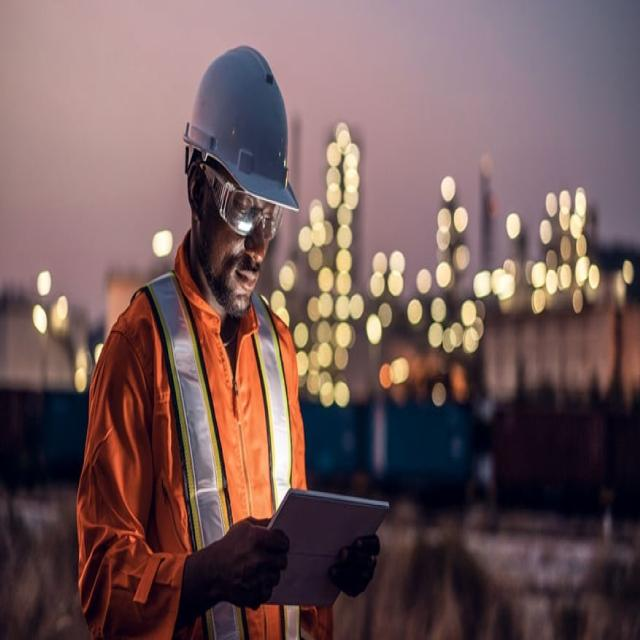goggles: (192, 151, 290, 248)
helmet: (183, 40, 302, 224)
vest: (137, 280, 303, 630)
